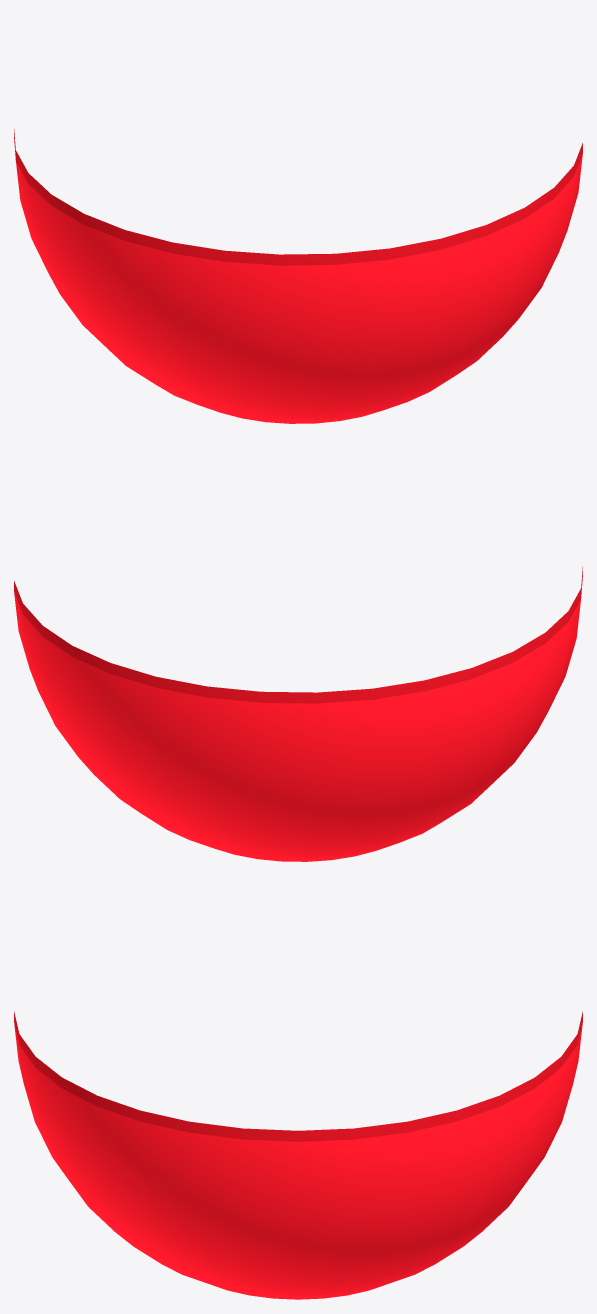
The model's file is red-lower.glb.
3 renders of one model, top to bottom at view 1: azimuth 30°, elevation 25°; view 2: azimuth 150°, elevation 25°; view 3: azimuth 270°, elevation 25°, orthographic.
Parts seen in each view (by area): view 1: red-lower; view 2: red-lower; view 3: red-lower.
Boxes of the visible parts, box(x1,y1,x2,y2) form: red-lower: box(14, 129, 582, 423); red-lower: box(14, 567, 582, 861); red-lower: box(14, 1011, 582, 1299).
Size of the model in its own units: 2 by 1.02 by 2.
